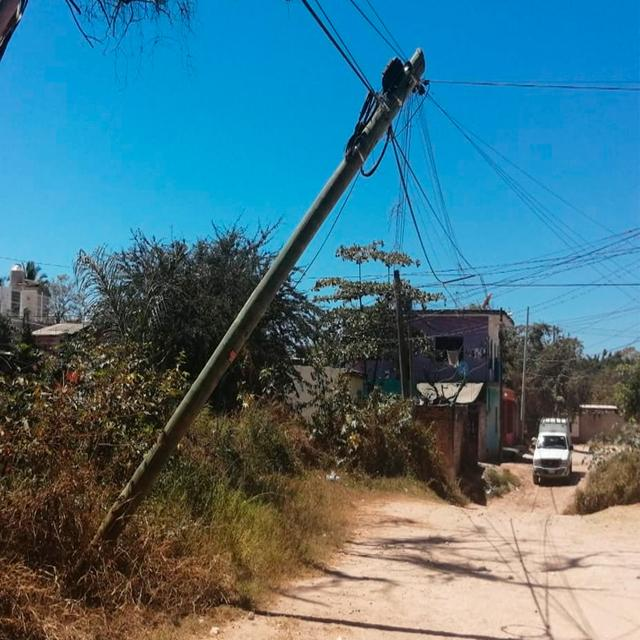Inclined Pole: (57, 40, 431, 583)
